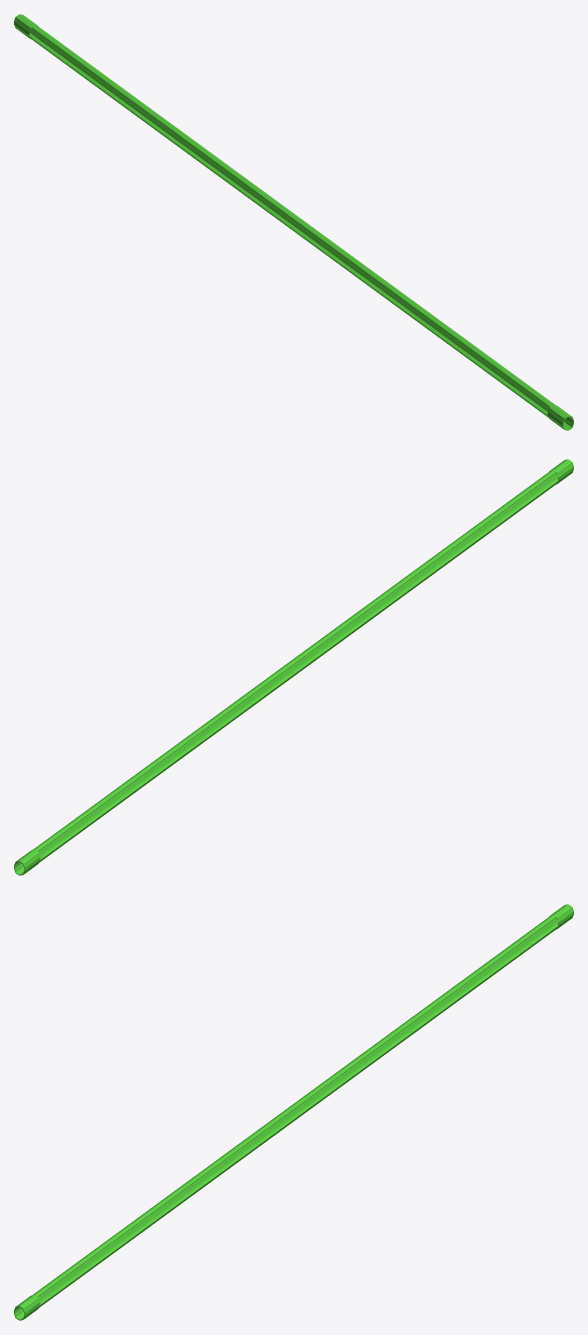
File: Flappy Tunnel.fbx
The picture shows the model from 3 angles, top to bottom: view 1: azimuth 30°, elevation 25°; view 2: azimuth 150°, elevation 25°; view 3: azimuth 330°, elevation 25°; orthographic projection.
Parts seen in each view (by area): view 1: object Boundary Pipe; view 2: object Boundary Pipe; view 3: object Boundary Pipe.
Part boxes in pixels (left/top/right/bottom): object Boundary Pipe: left=14, top=14, right=573, bottom=430; object Boundary Pipe: left=14, top=459, right=573, bottom=875; object Boundary Pipe: left=14, top=904, right=573, bottom=1320.
Size of the model in its own units: 1116 by 1400 by 96600.
